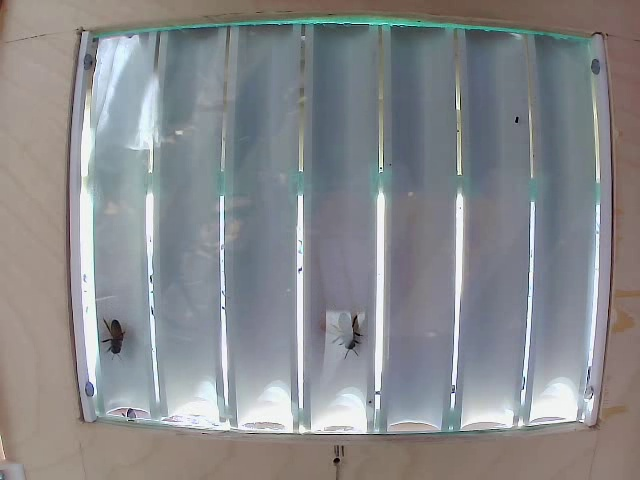bee: (325, 310, 393, 360), (115, 327, 152, 366)
